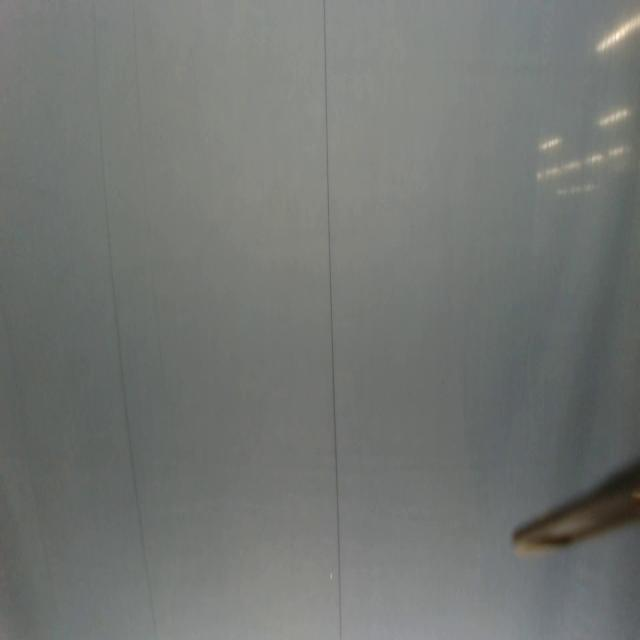crease: (91, 0, 159, 639), (322, 0, 344, 639), (128, 0, 146, 116)
